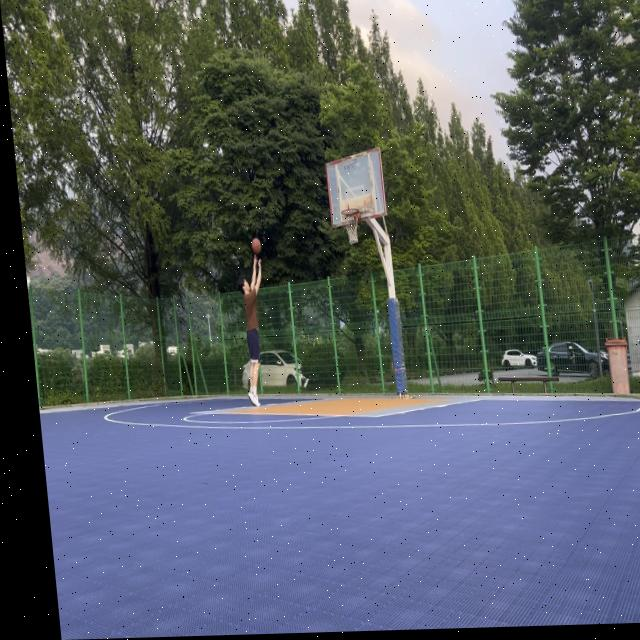basketball: (250, 236, 262, 255)
hoop: (341, 208, 363, 246)
